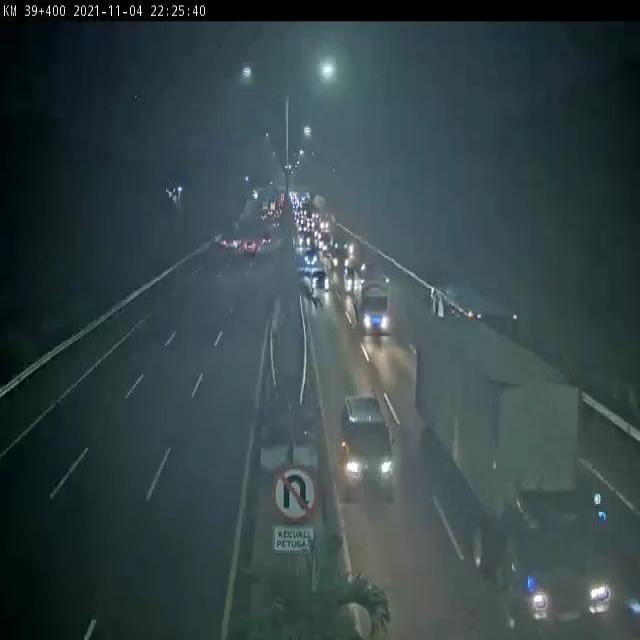bus-l-: (425, 281, 517, 319)
car: (337, 395, 395, 505), (241, 235, 261, 261), (311, 265, 329, 292)
truck-m-: (347, 273, 394, 336)
truck-xl-: (417, 319, 615, 633)
